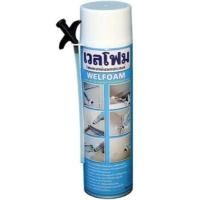Aerosol_cans: (78, 1, 135, 200)
